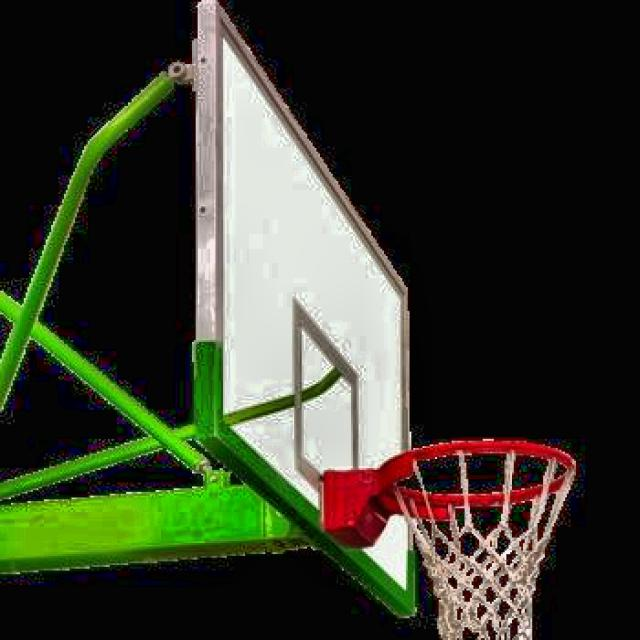rim: (387, 437, 580, 640)
